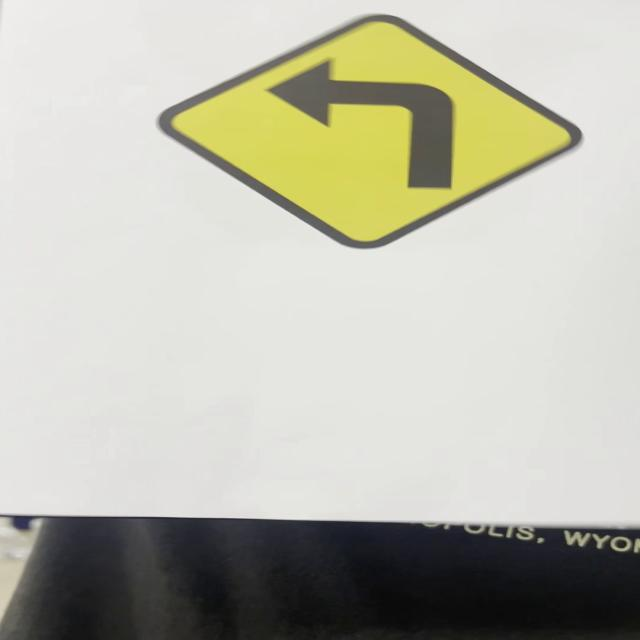left: (154, 14, 584, 251)
